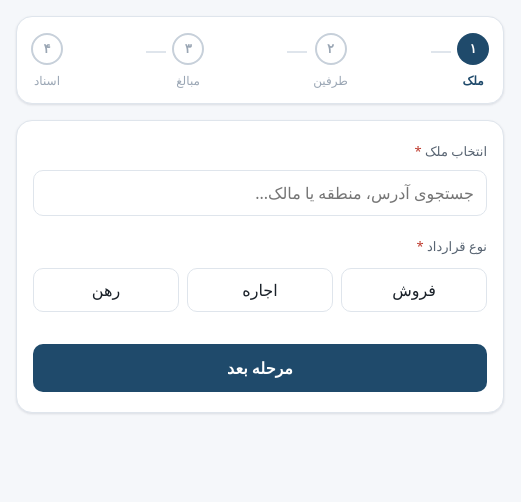
Test case: ContractWizardScreen — Step 2 (parties) › shows مالک/فروشنده and مستأجر labels for rent
The image size is (521, 502).
Type "مولوی" into the field with placeholder "جستجوی آدرس، منطقه یا مالک..." at [260, 193], box [33, 170, 487, 216]
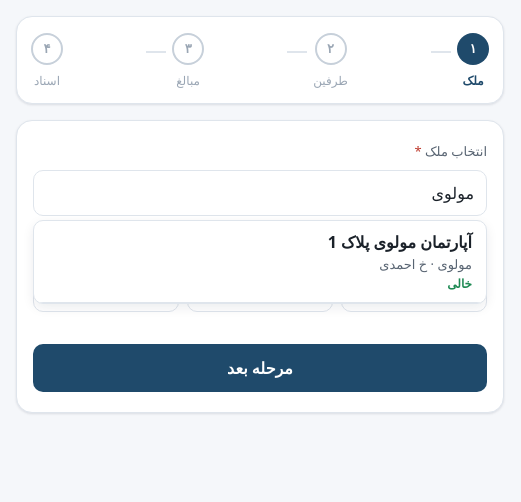
Now the text "آپارتمان مولوی پلاک 1" is shown
Click the text "آپارتمان مولوی پلاک 1" at [400, 242], box [328, 231, 472, 253]
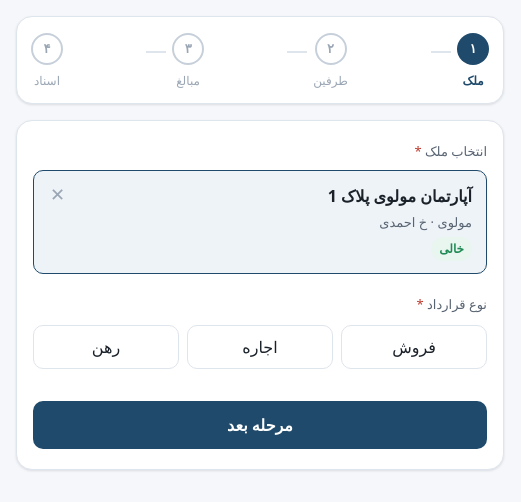
Click the button "اجاره" at [260, 347], box [187, 325, 333, 369]
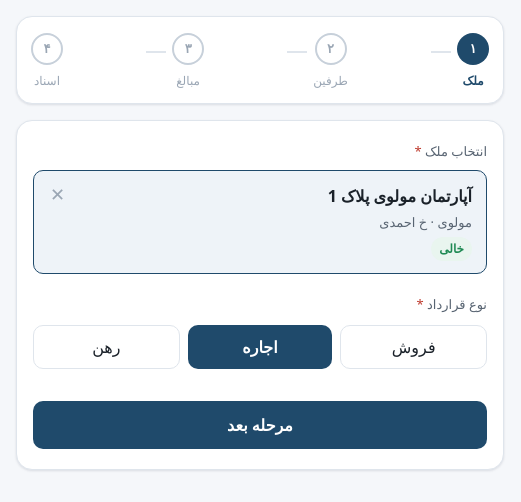
Click the button "مرحله بعد" at [260, 425], box [33, 401, 487, 449]
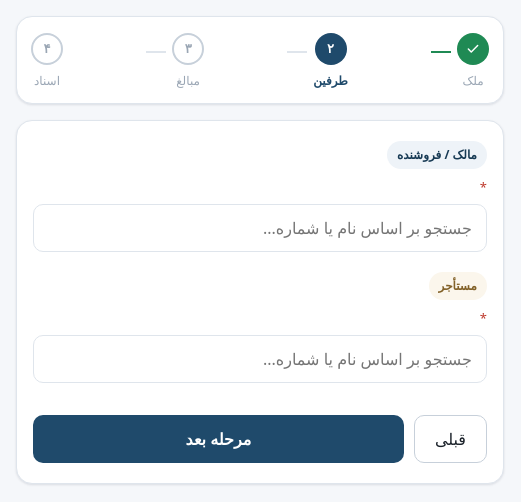
Now the text "مالک / فروشنده" is shown, box [387, 141, 487, 169]
Now the text "مستأجر" is shown, box [428, 272, 487, 300]
